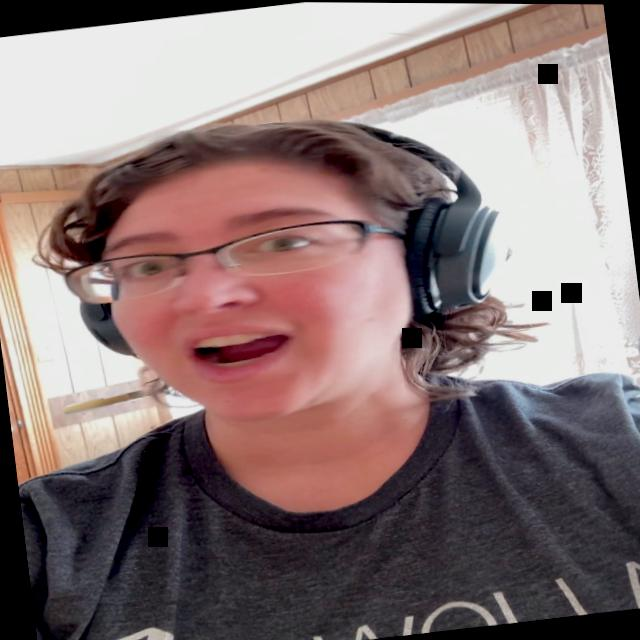NO-Mask: (88, 133, 428, 439)
